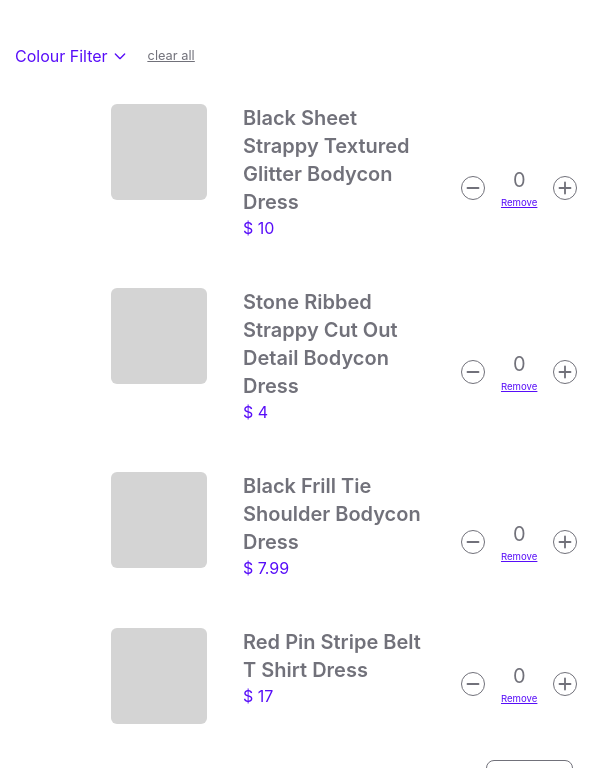
it: Cart › Cart Total Updates
What coordinates should you click on to do the following:
click the element with test id "1-product-add"
I would click on:
 (565, 188)
Its box is [553,176,577,200].
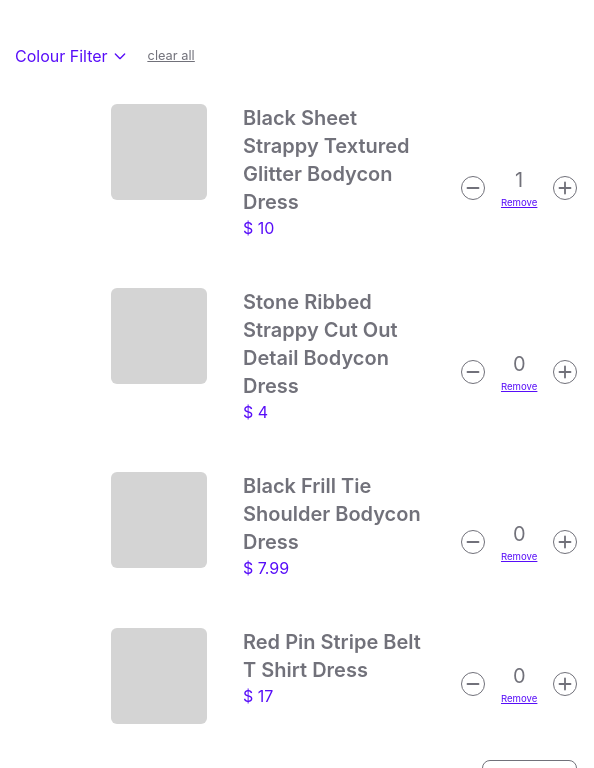
What coordinates should you click on to do the following:
click the element with test id "1-product-delete"
I would click on:
 (473, 188)
Its box is [461,176,485,200].
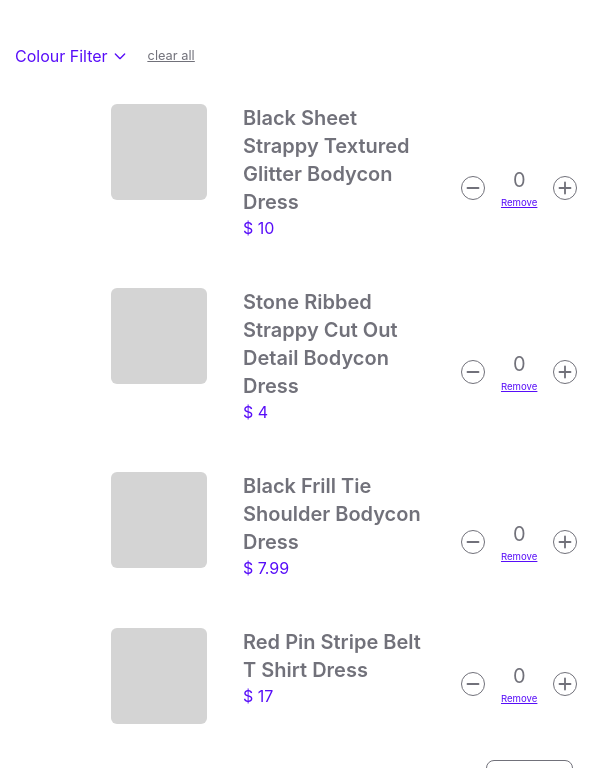
What coordinates should you click on to do the following:
click the element with test id "1-product-add"
I would click on:
 (565, 188)
Its box is [553,176,577,200].
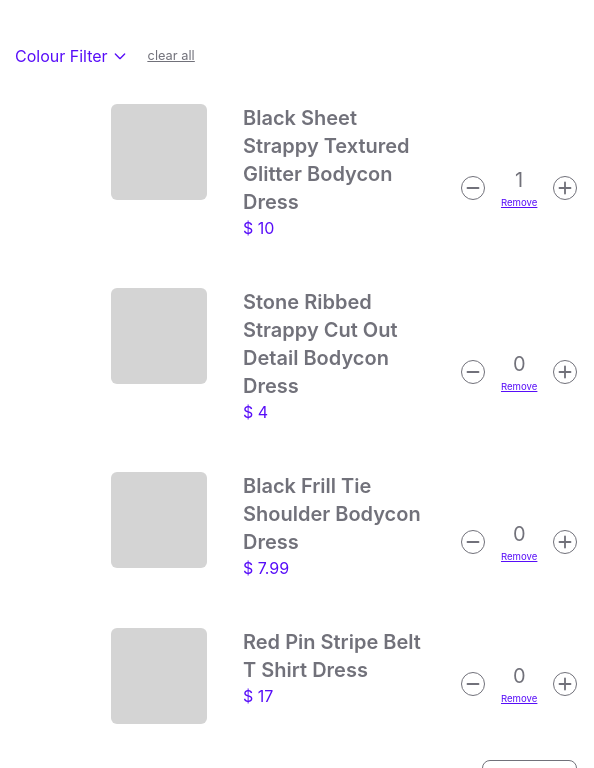
What coordinates should you click on to do the following:
click the element with test id "1-product-add"
I would click on:
 (565, 188)
Its box is [553,176,577,200].
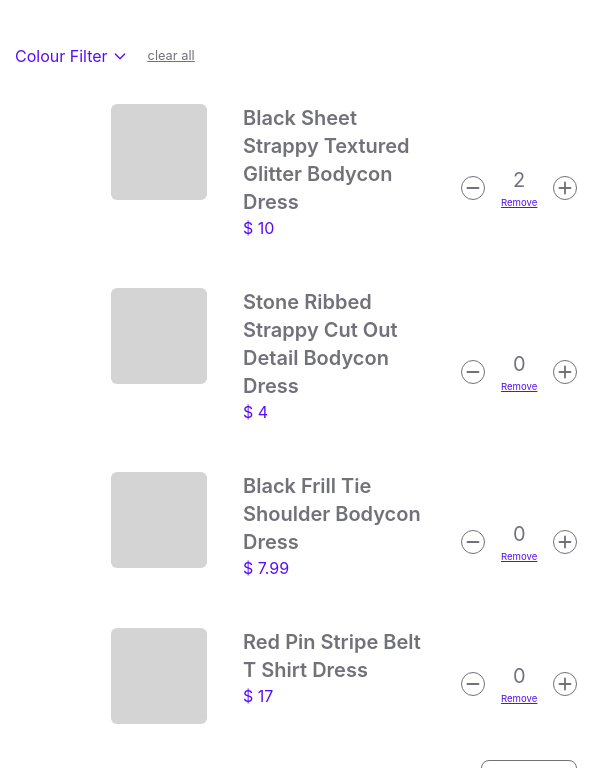
What coordinates should you click on to do the following:
click the link with test id "1-product-remove"
I would click on:
 (519, 202)
Its box is [501,194,537,210].
(page scrolled)
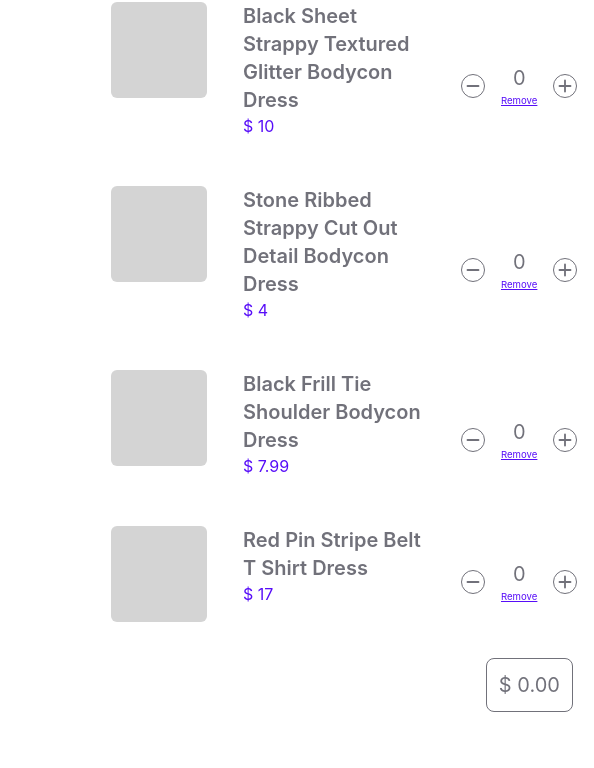
Expected: the heading with test id "cart-total" shows "$ 0", [486,658,573,712]
